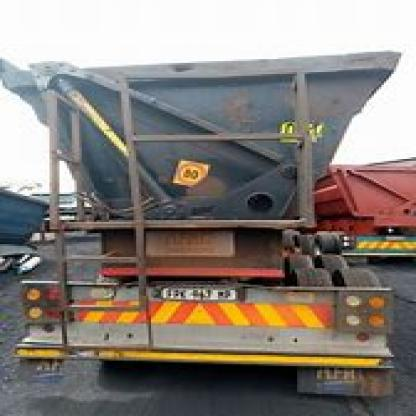dump_truck: (17, 43, 408, 401)
